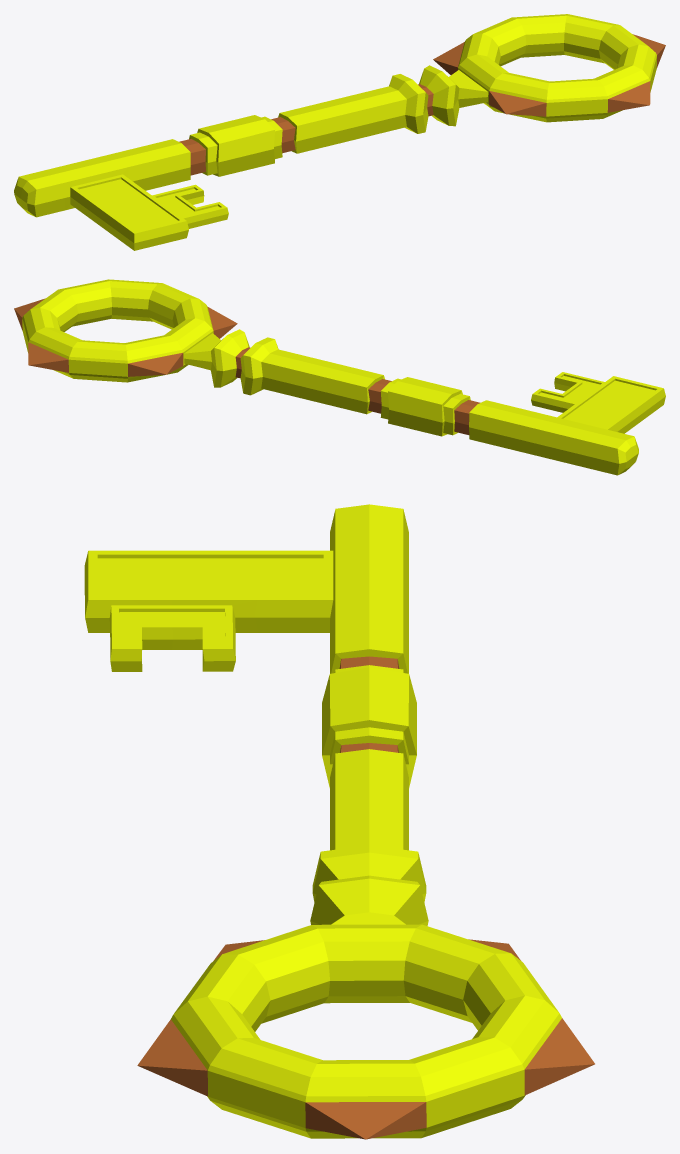
Rendered from SM_Key_Sun.fbx.
The picture shows the model from 3 angles, top to bottom: view 1: azimuth 30°, elevation 25°; view 2: azimuth 150°, elevation 25°; view 3: azimuth 270°, elevation 25°; orthographic projection. The views are drawn at different scales.
Parts seen in each view (by area): view 1: SM_Key_Sun; view 2: SM_Key_Sun; view 3: SM_Key_Sun.
Boxes of the visible parts, box(x1,y1,x2,y2) form: SM_Key_Sun: box(14, 14, 665, 250); SM_Key_Sun: box(14, 279, 665, 475); SM_Key_Sun: box(84, 504, 594, 1139).
Bounding box in the file's own units: 36.15 × 2.6 × 12.91.
